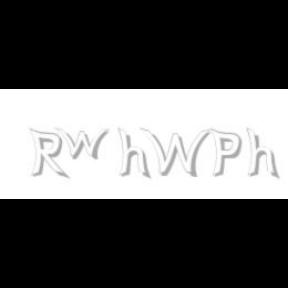P: (210, 128, 242, 178)
R: (29, 128, 67, 180)
W: (139, 128, 211, 178)
h: (246, 128, 282, 180), (118, 128, 152, 180)
w: (55, 128, 114, 160)
